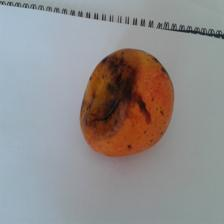Mango Rotten: (79, 43, 176, 161)
